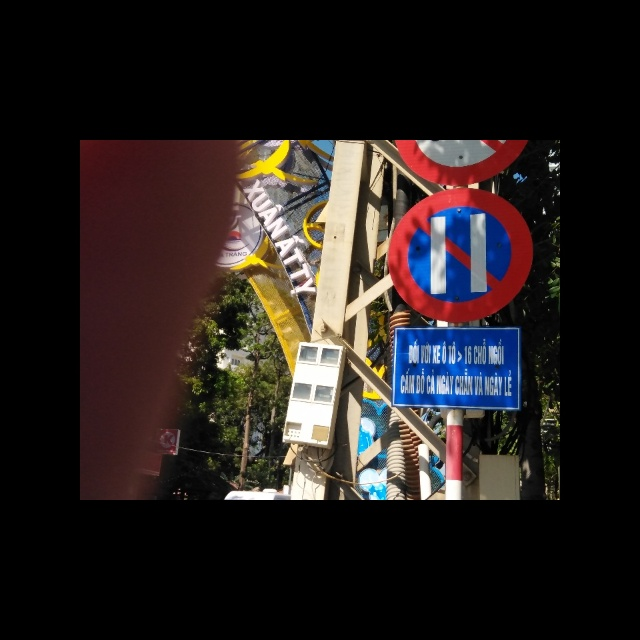Cấm đỗ xe ngày chẵn: (385, 190, 532, 330)
